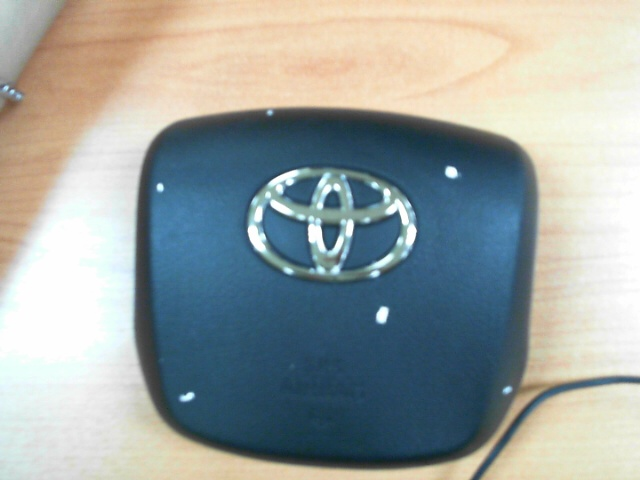Airbag: (374, 305, 389, 325), (444, 165, 461, 180), (178, 391, 195, 404), (501, 385, 513, 396), (156, 181, 165, 193), (264, 109, 275, 117)
